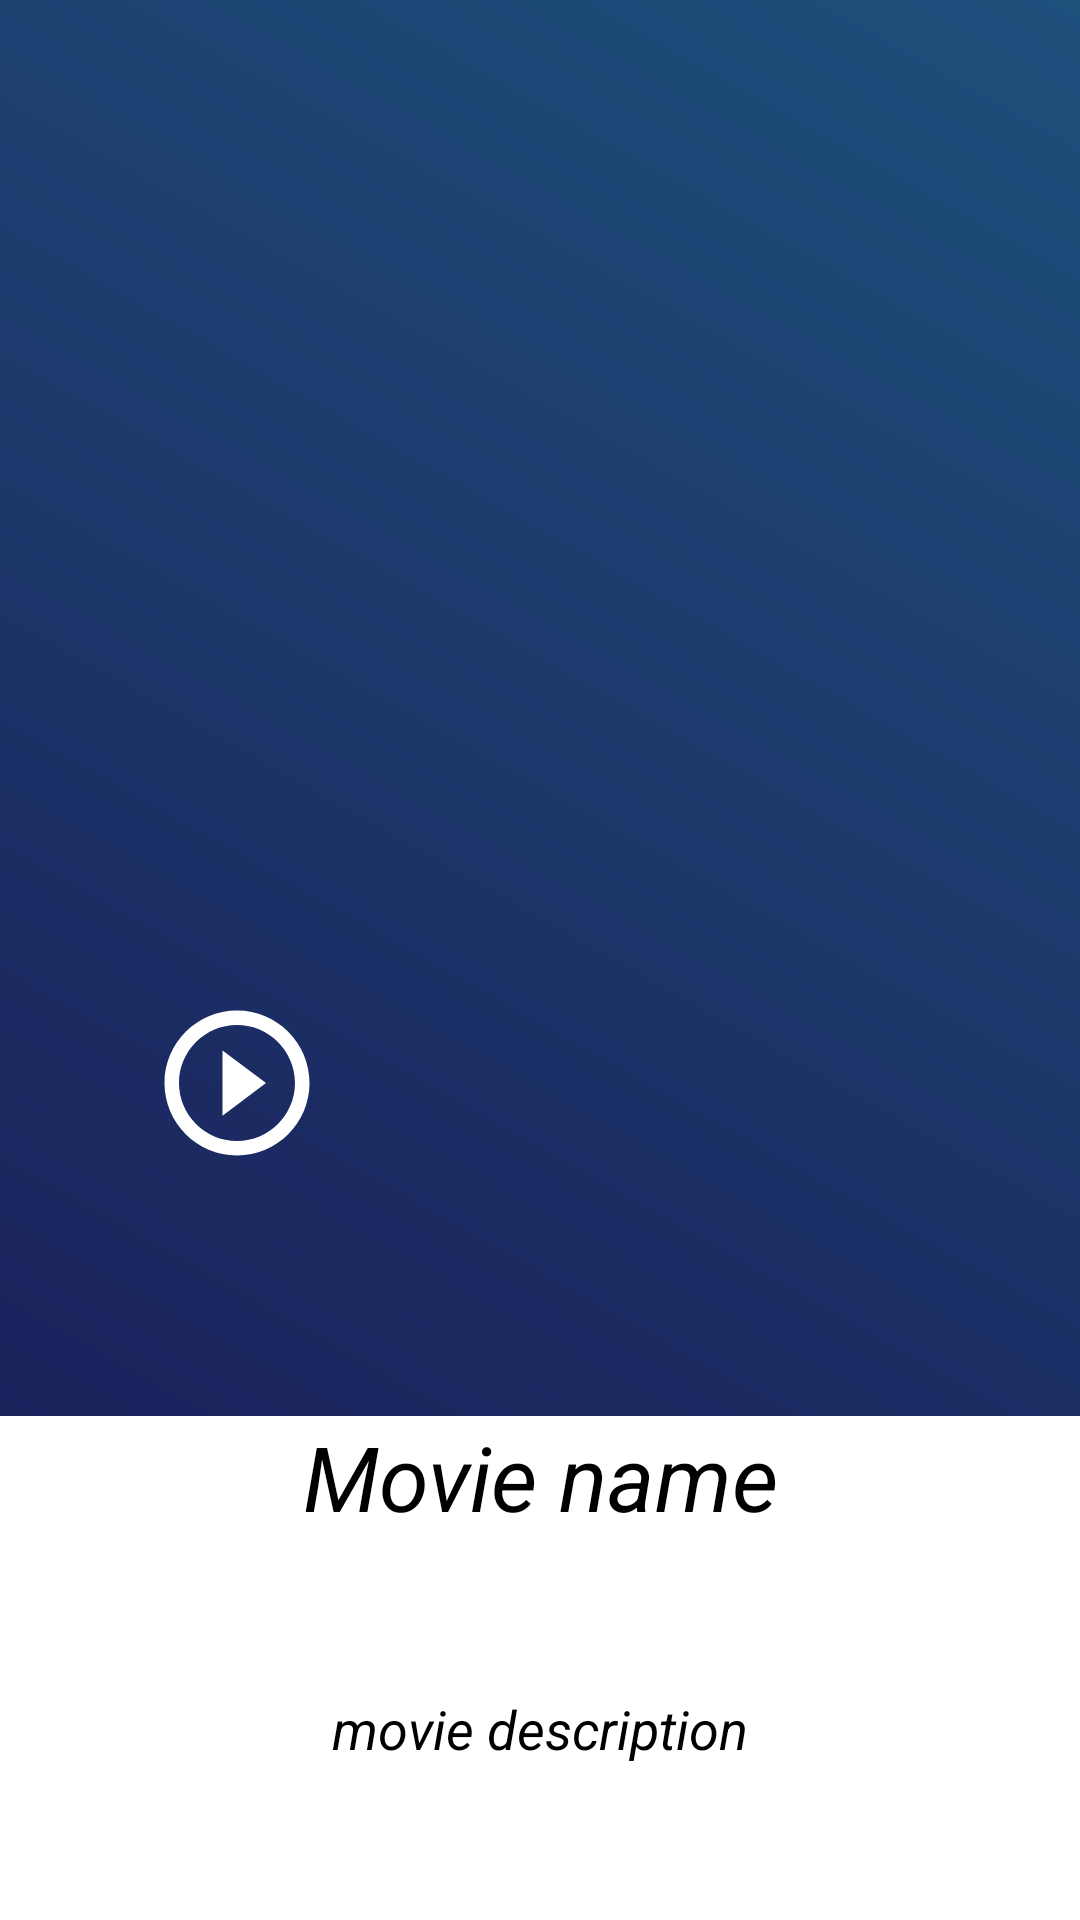

Icon click points for this 1080px x 1920px phone screenshot, format (x=x, y=y):
play circle: (x=237, y=1083)
